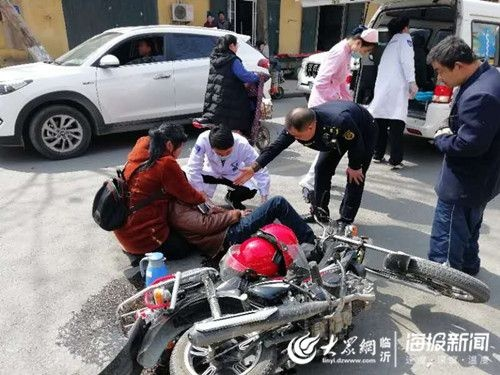falling: (134, 137, 318, 269)
